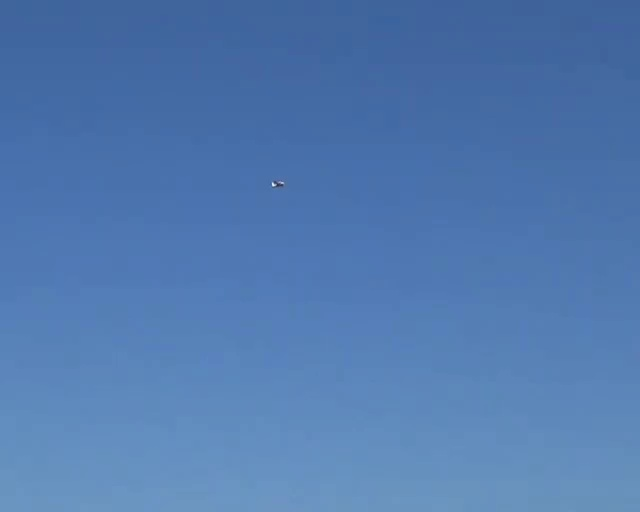AIRPLANE: (271, 179, 285, 188)
